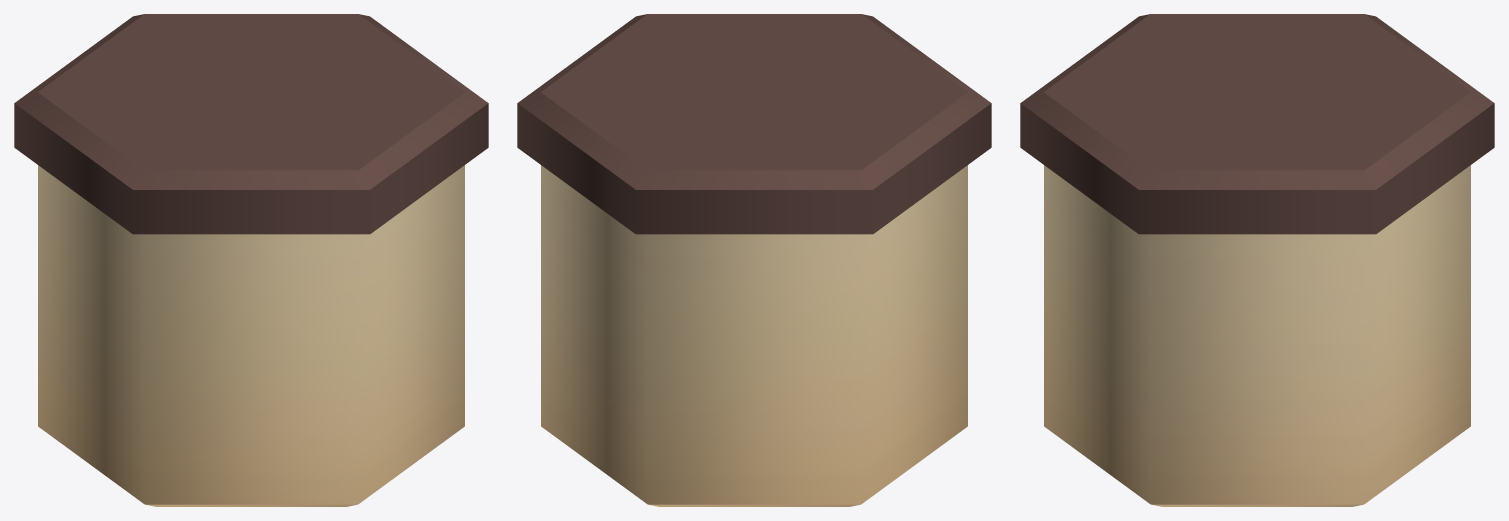
Rendered from Jar_2_A.fbx.
3 views of the same model, side by side, from view 1: azimuth 30°, elevation 25°; view 2: azimuth 150°, elevation 25°; view 3: azimuth 270°, elevation 25° (orthographic).
Visible parts, largest first — view 1: Jar_2_A; view 2: Jar_2_A; view 3: Jar_2_A.
Boxes of the visible parts, x1,y1,x2,y2 form: Jar_2_A: (14,14,488,506); Jar_2_A: (517,14,991,506); Jar_2_A: (1020,14,1494,506).
Size of the model in its own units: 17.99 by 16.69 by 20.77.
